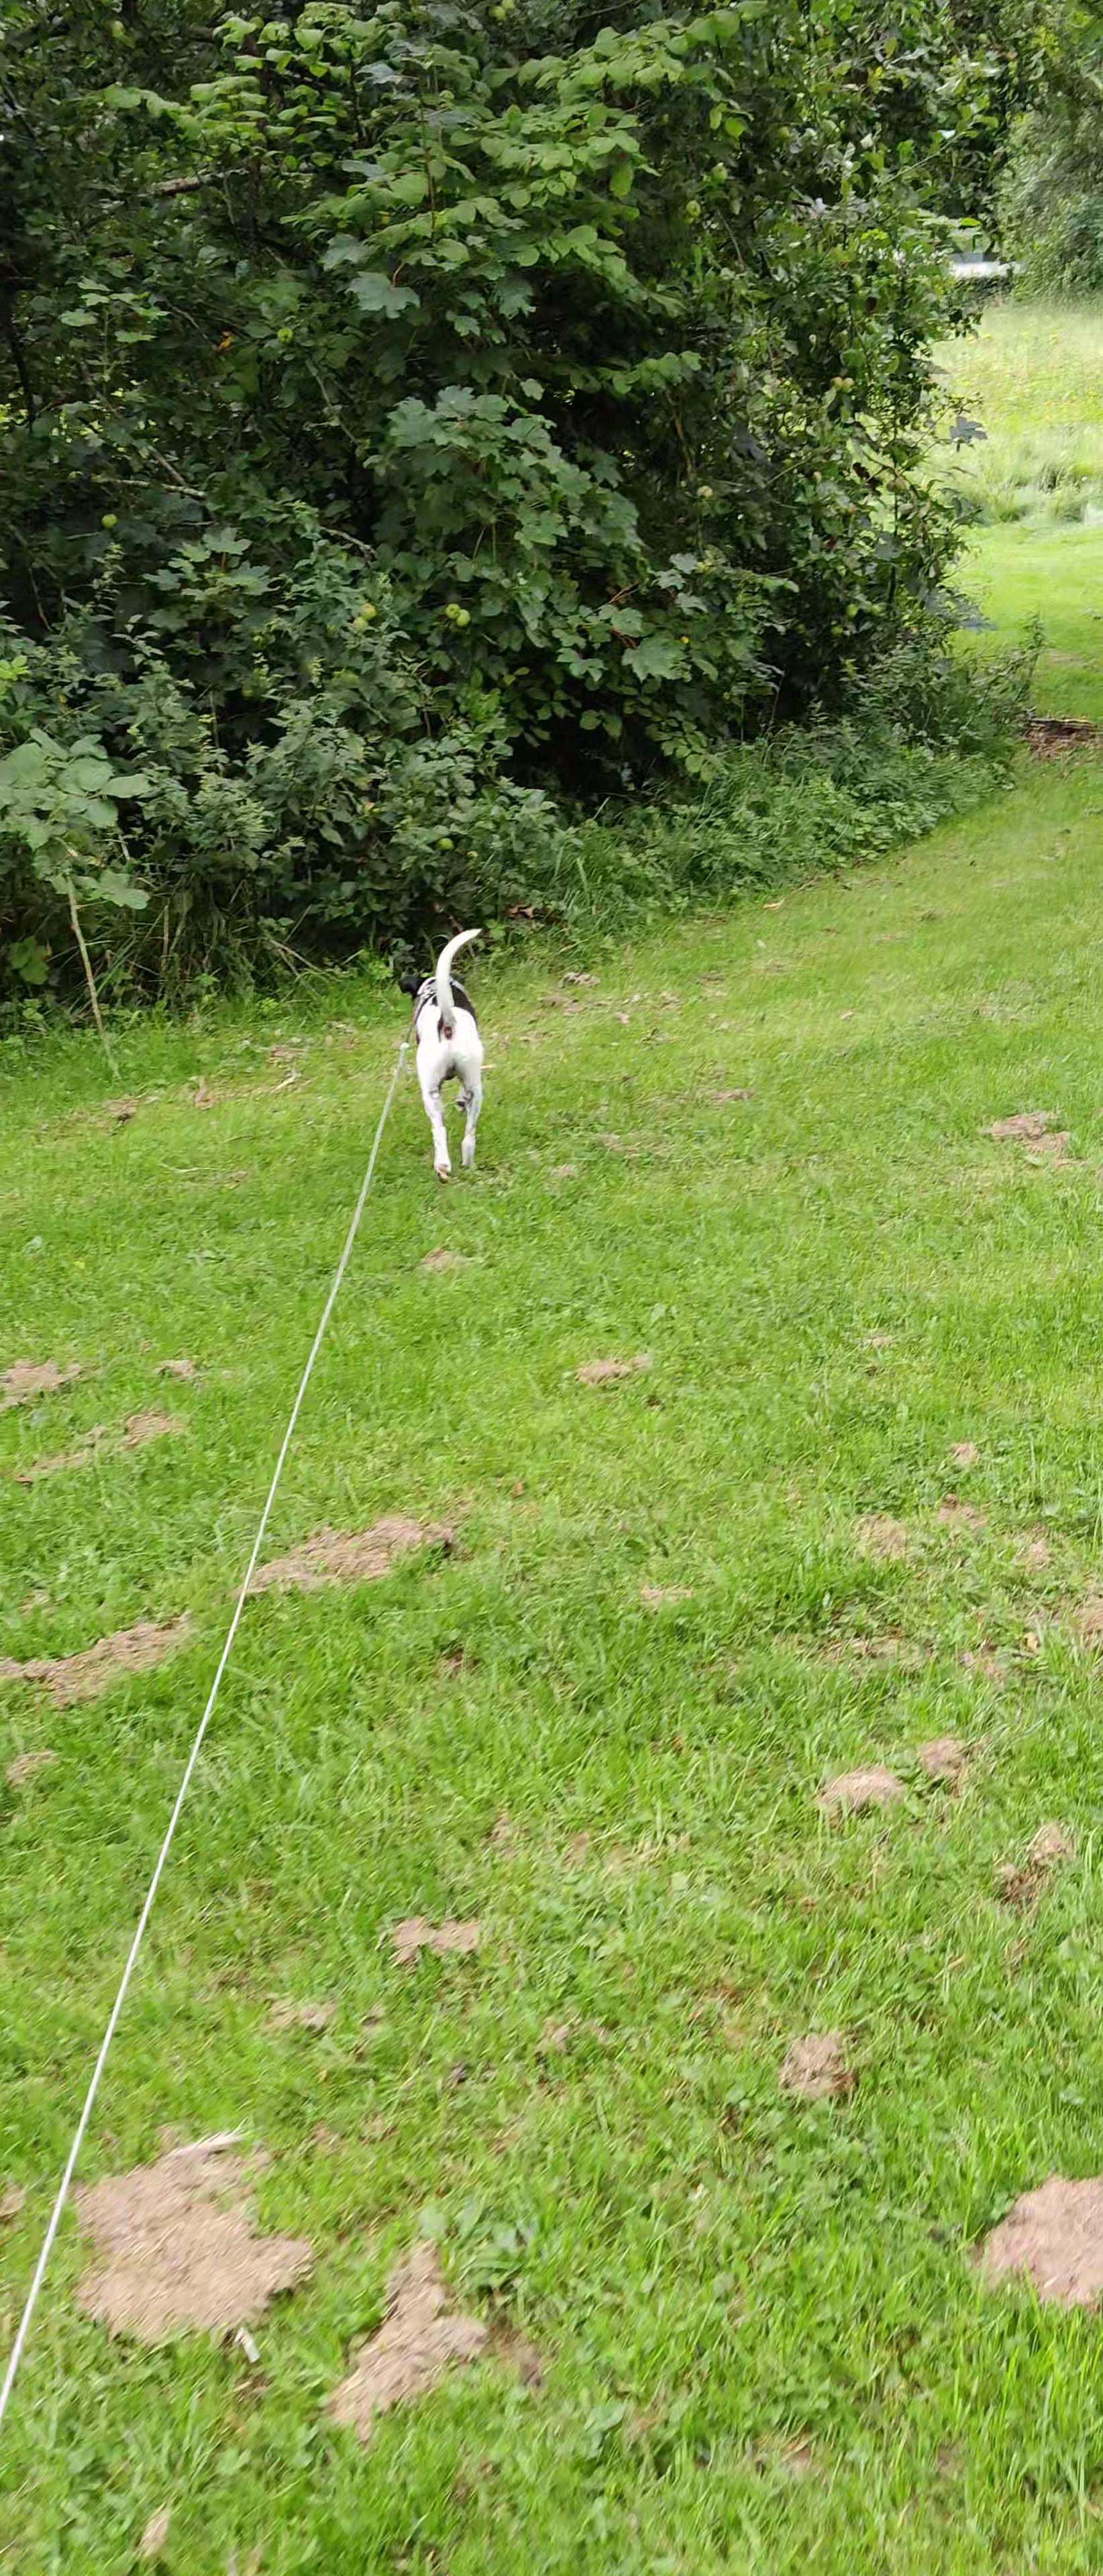Dog: (376, 899, 523, 1199)
